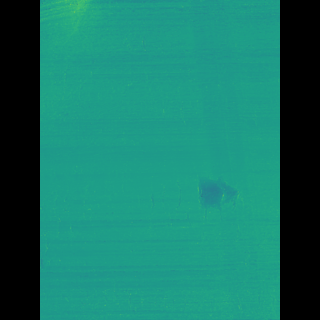Loch: (181, 168, 221, 228)
